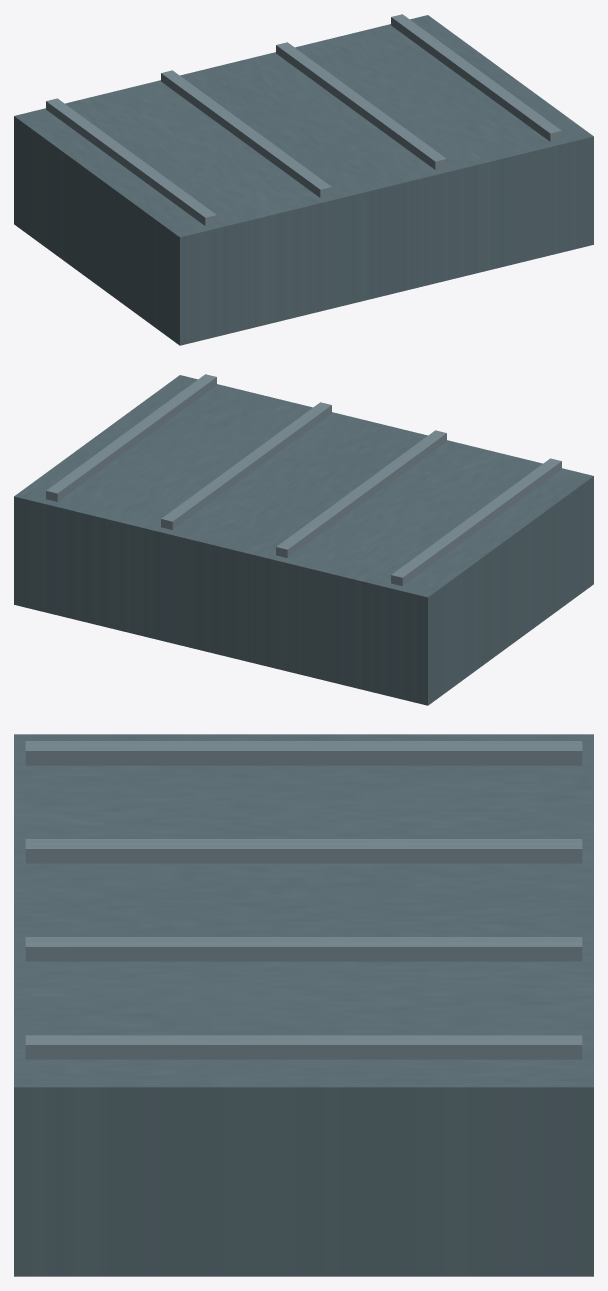
The model's file is 267_L118_BackupClockShield.obj.
The picture shows the model from 3 angles, top to bottom: view 1: azimuth 30°, elevation 25°; view 2: azimuth 150°, elevation 25°; view 3: azimuth 270°, elevation 25°; orthographic projection. The views are drawn at different scales.
Visible parts, largest first — view 1: 267_L118_BackupClockShield; view 2: 267_L118_BackupClockShield; view 3: 267_L118_BackupClockShield.
Boxes of the visible parts, x1,y1,x2,y2 form: 267_L118_BackupClockShield: (14,14,593,345); 267_L118_BackupClockShield: (14,374,593,705); 267_L118_BackupClockShield: (14,734,593,1276).
Bounding box in the file's own units: 0.036 × 0.00985 × 0.025.
Materials: 2 (2 with a texture image).
